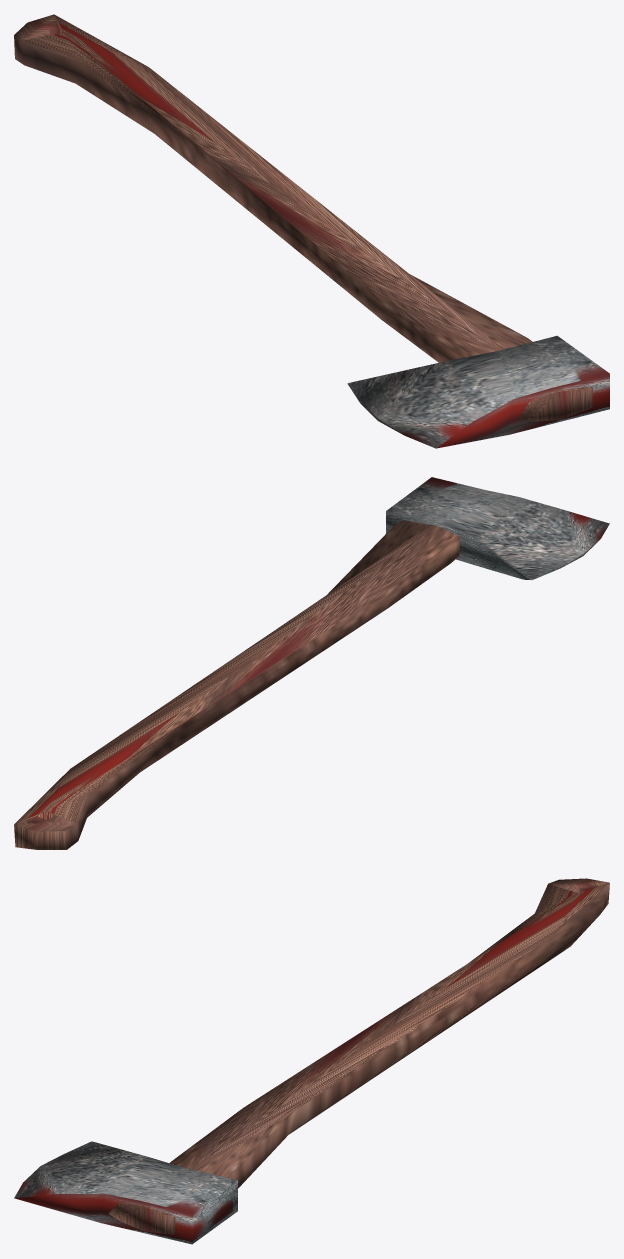
File: axe.fbx
3 views of the same model, one above another, from view 1: azimuth 30°, elevation 25°; view 2: azimuth 150°, elevation 25°; view 3: azimuth 330°, elevation 25° (orthographic). The views are drawn at different scales.
Visible parts, largest first — view 1: Racing Axe, Head; view 2: Racing Axe, Head; view 3: Racing Axe, Head.
Boxes of the visible parts, bbox=[...] form: Racing Axe: bbox=[14, 14, 592, 421]; Head: bbox=[347, 335, 609, 448]; Racing Axe: bbox=[14, 520, 459, 849]; Head: bbox=[386, 477, 609, 580]; Racing Axe: bbox=[108, 878, 609, 1234]; Head: bbox=[14, 1141, 237, 1244].
Bounding box in the file's own units: 17.95 × 3.05 × 81.58.
2 materials, 2 textured.
